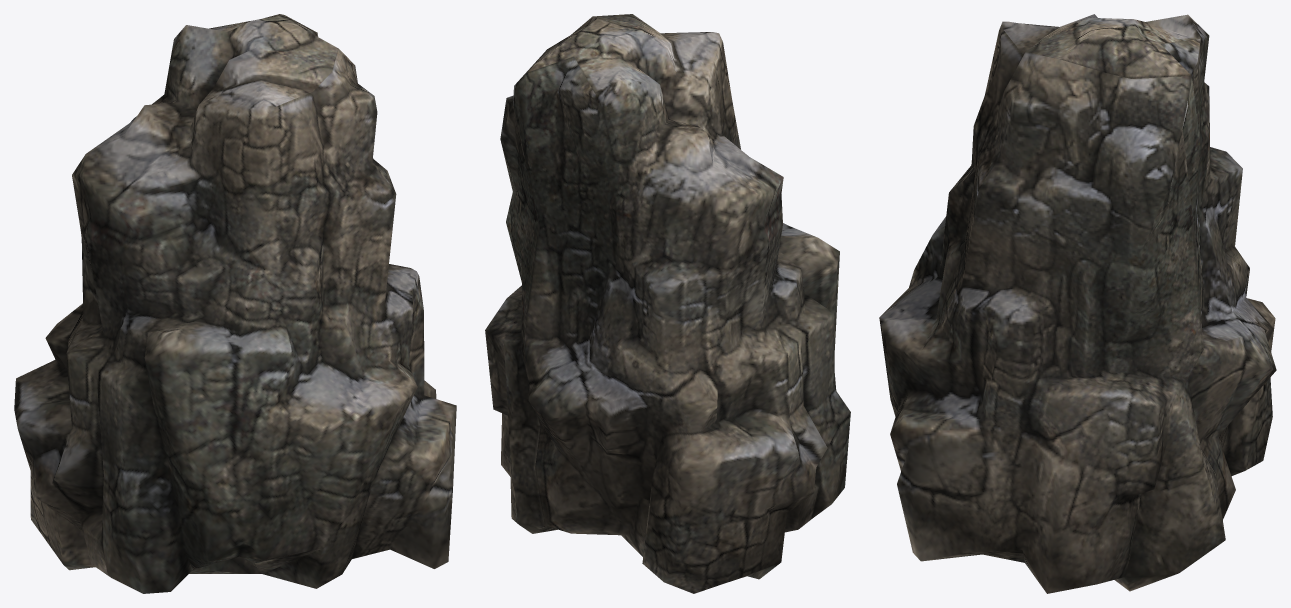
The model's file is Rock2.FBX.
The picture shows the model from 3 angles, left to right: view 1: azimuth 30°, elevation 25°; view 2: azimuth 150°, elevation 25°; view 3: azimuth 270°, elevation 25°; orthographic projection. The views are drawn at different scales.
Parts seen in each view (by area): view 1: Rock2; view 2: Rock2; view 3: Rock2.
Part boxes in pixels (box(x1,y1,x2,y2)): Rock2: box(14, 14, 456, 593); Rock2: box(485, 14, 850, 593); Rock2: box(879, 14, 1276, 593).
Bounding box in the file's own units: 4.02 × 5.49 × 3.71.
